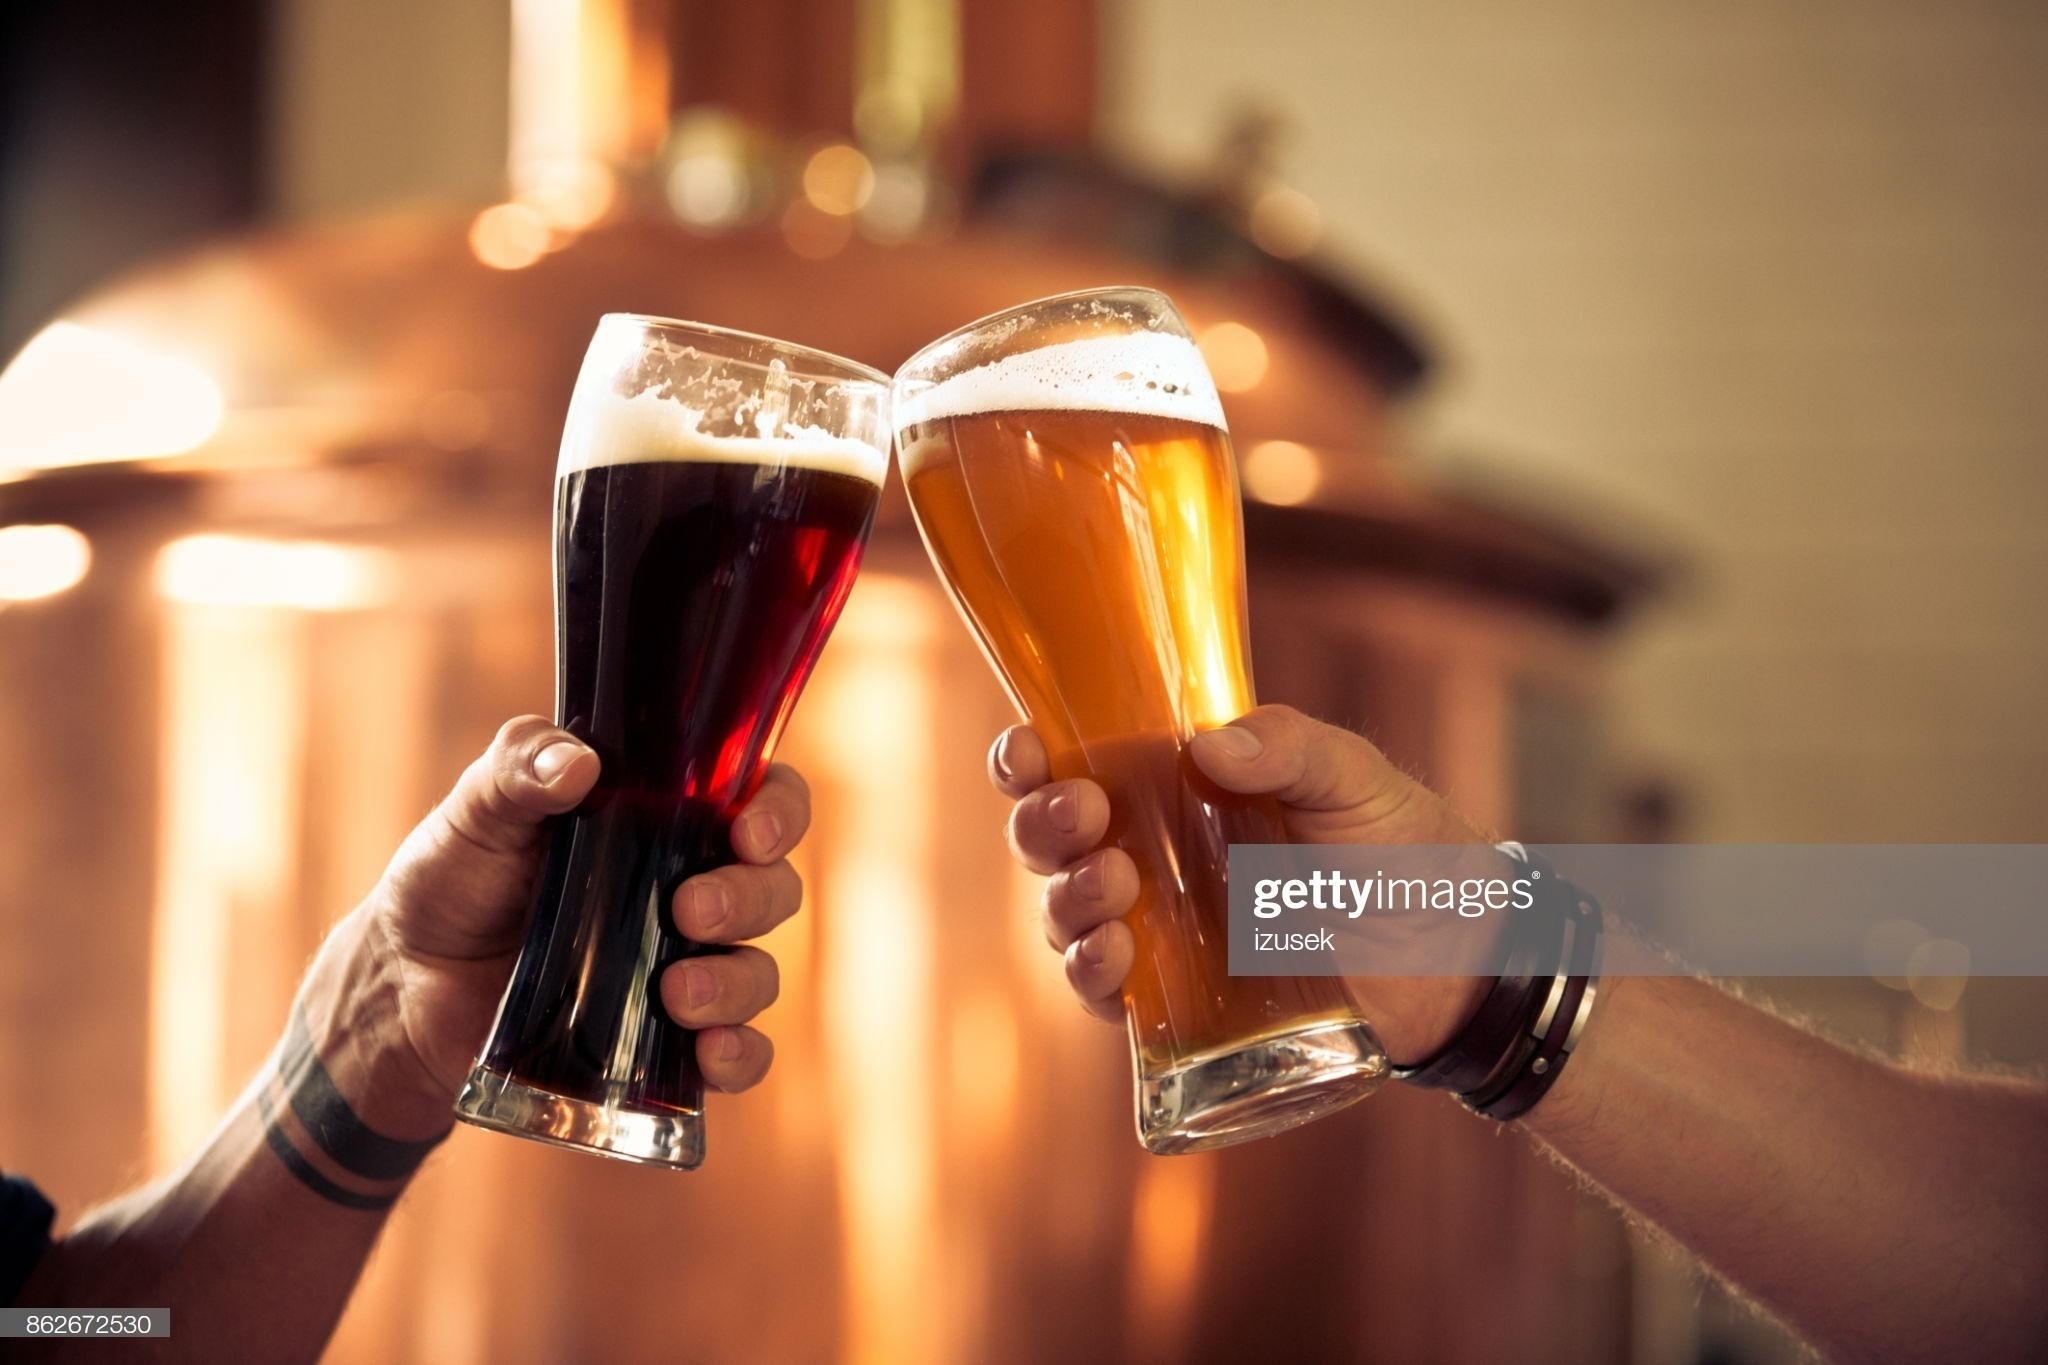whiskey: (891, 309, 1428, 1138), (467, 300, 892, 1168)
